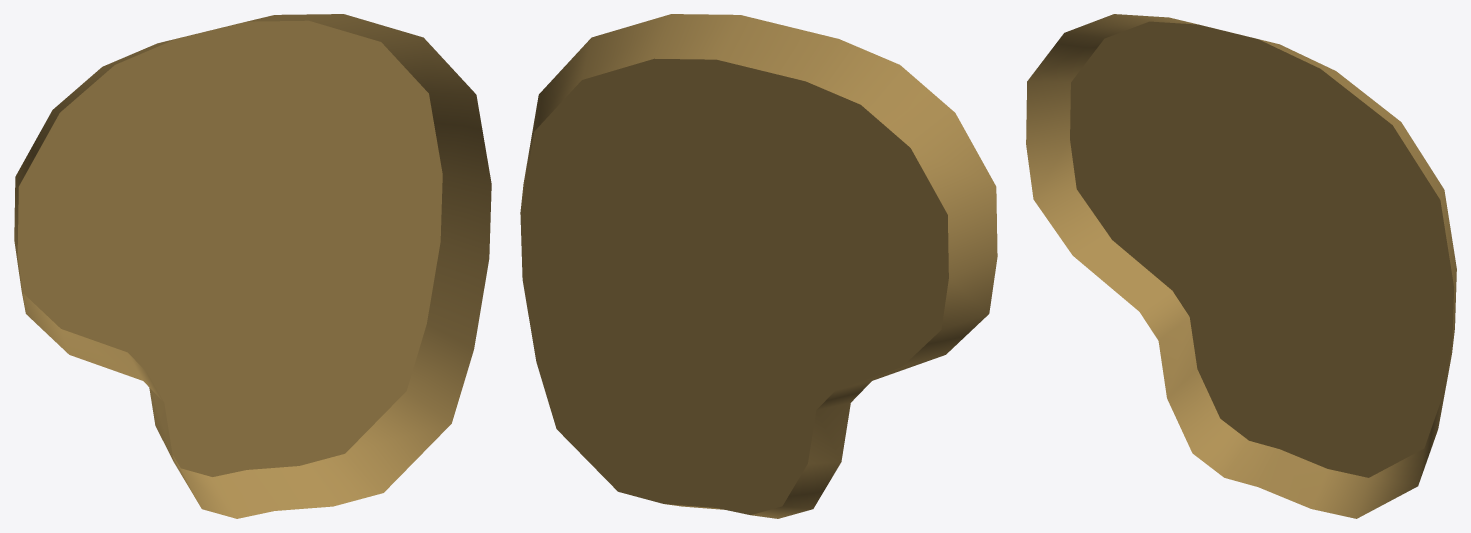
The model's file is Ground Raise 02.FBX.
3 views of the same model, side by side, from view 1: azimuth 30°, elevation 25°; view 2: azimuth 150°, elevation 25°; view 3: azimuth 330°, elevation 25° (orthographic). The views are drawn at different scales.
Visible parts, largest first — view 1: Ground Raise 02; view 2: Ground Raise 02; view 3: Ground Raise 02.
Part boxes in pixels (x1=…): Ground Raise 02: x1=14, y1=14, x2=491, y2=518; Ground Raise 02: x1=520, y1=14, x2=997, y2=518; Ground Raise 02: x1=1026, y1=14, x2=1456, y2=518.
Size of the model in its own units: 145 by 13.75 by 148.
